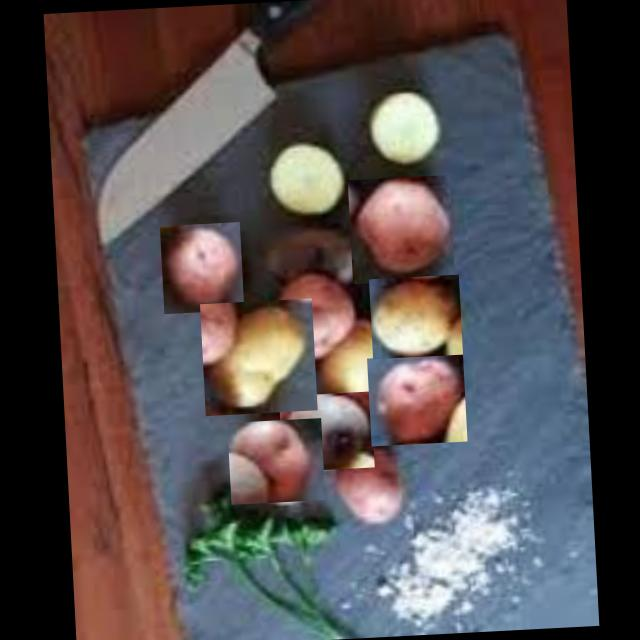Defected potato: (347, 175, 454, 284), (366, 354, 466, 446), (226, 418, 324, 505), (273, 270, 361, 366), (159, 222, 243, 314), (333, 438, 408, 527)
Diseased-fungal potato: (278, 392, 374, 472)
Potato: (199, 298, 317, 416), (368, 274, 462, 360)
